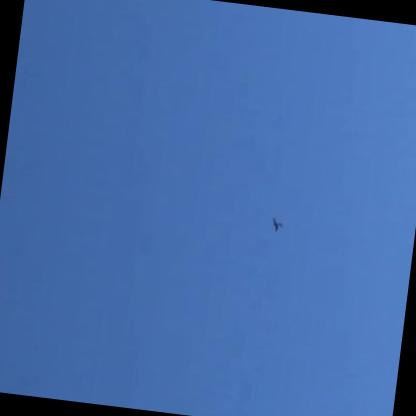plane: (271, 216, 283, 231)
